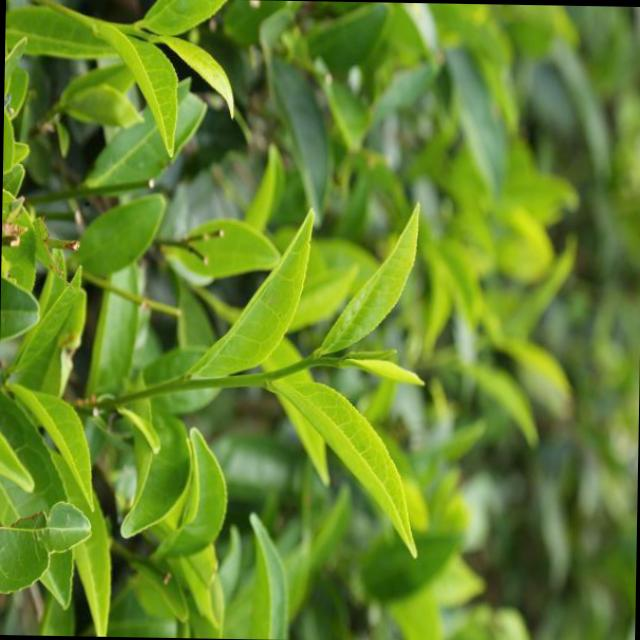Stem: (123, 25, 136, 33), (308, 355, 321, 363)
